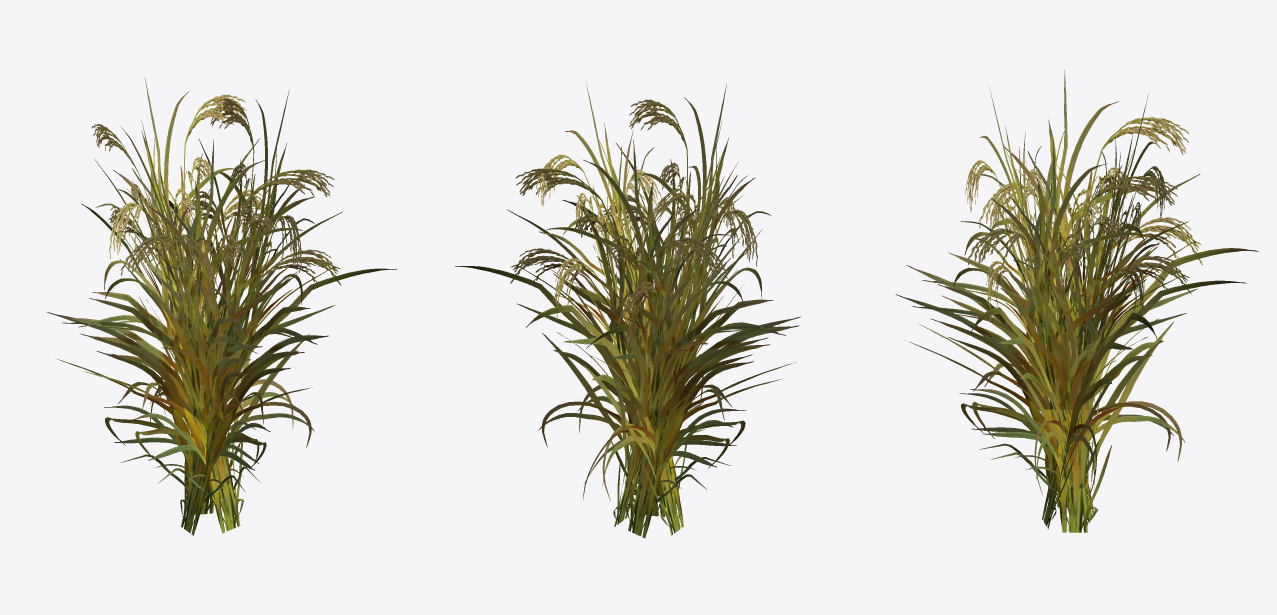
File: Paddy.fbx
3 views of the same model, side by side, from view 1: azimuth 30°, elevation 25°; view 2: azimuth 150°, elevation 25°; view 3: azimuth 270°, elevation 25° (orthographic).
Parts seen in each view (by area): view 1: Cards_4.001; view 2: Cards_4.001; view 3: Cards_4.001.
Part boxes in pixels (x1,y1,x2,y2): Cards_4.001: (46, 78, 396, 535); Cards_4.001: (455, 82, 801, 538); Cards_4.001: (895, 70, 1258, 532).
Size of the model in its own units: 149 by 170 by 143.
Materials: 1 (1 with a texture image).
